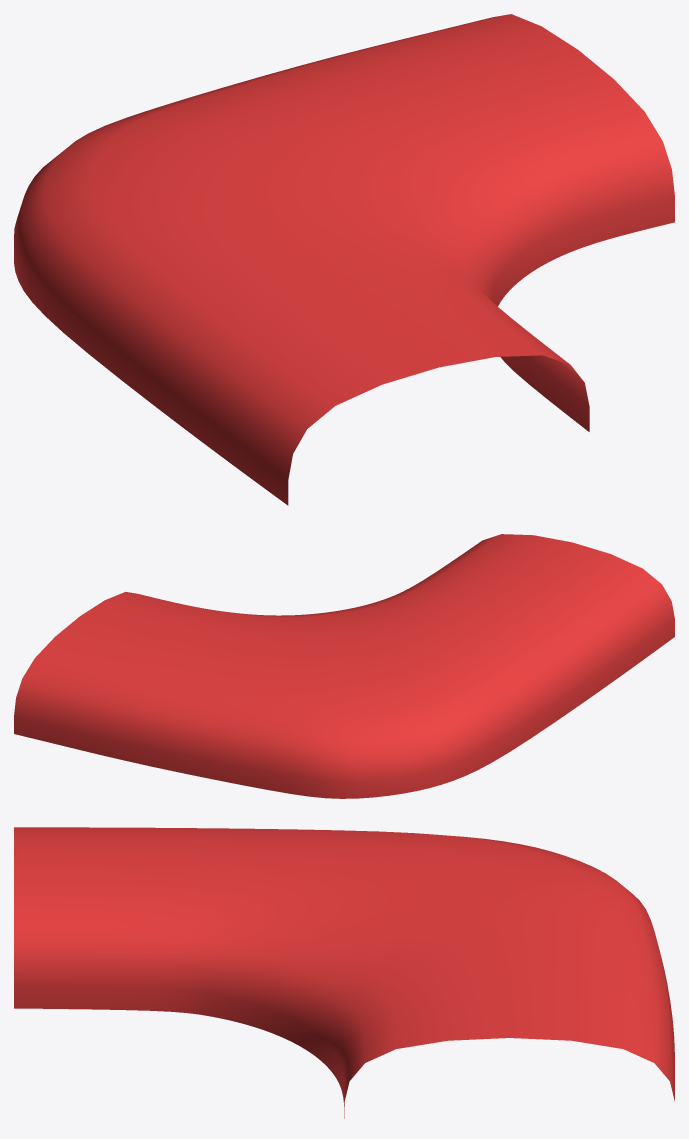
Rendered from CurvaRectaRoja.fbx.
The picture shows the model from 3 angles, top to bottom: view 1: azimuth 30°, elevation 25°; view 2: azimuth 150°, elevation 25°; view 3: azimuth 270°, elevation 25°; orthographic projection. The views are drawn at different scales.
Parts seen in each view (by area): view 1: CurvaRoja; view 2: CurvaRoja; view 3: CurvaRoja.
Part boxes in pixels (x1=…): CurvaRoja: x1=14, y1=14, x2=674, y2=505; CurvaRoja: x1=14, y1=534, x2=674, y2=798; CurvaRoja: x1=14, y1=827, x2=674, y2=1118.
Bounding box in the file's own units: 0.8642 × 0.1447 × 1.
